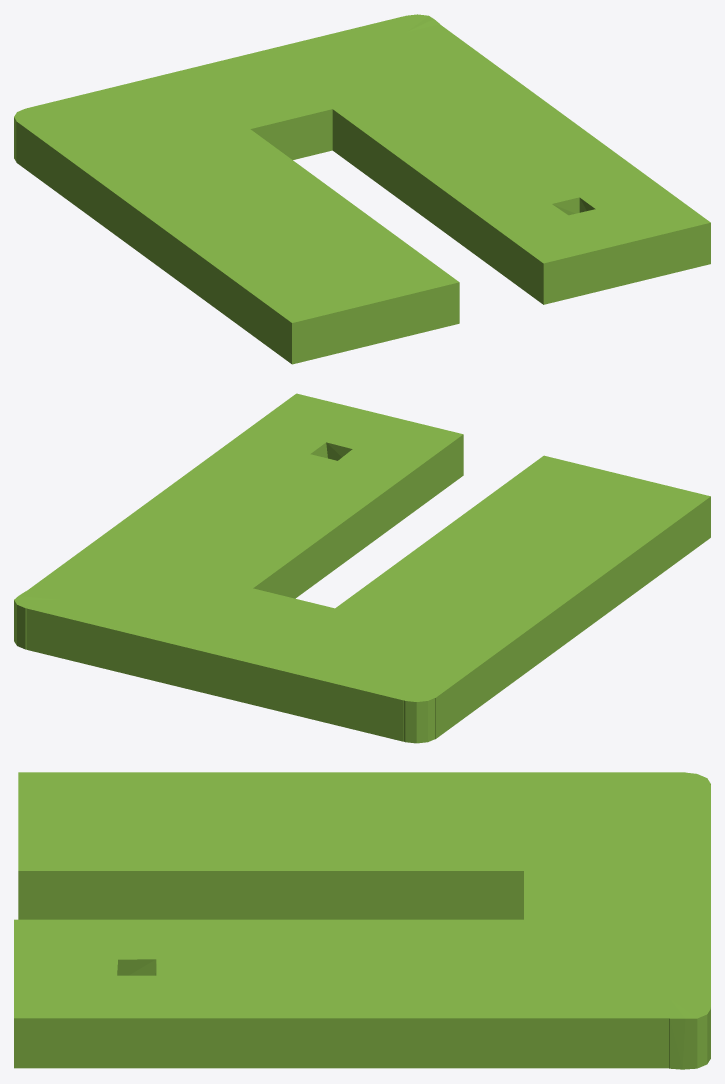
File: model-triangulated.obj
3 views of the same model, one above another, from view 1: azimuth 30°, elevation 25°; view 2: azimuth 150°, elevation 25°; view 3: azimuth 270°, elevation 25° (orthographic). The views are drawn at different scales.
Visible parts, largest first — view 1: group1414712935, group1857708213, group684364895, group308545719, group2005251453; view 2: group1414712935, group1857708213, group684364895, group308545719, group881132206, group2005251453; view 3: group1857708213, group1414712935, group684364895, group308545719, group2005251453.
Boxes of the visible parts, x1,y1,x2,y2 form: group1414712935: [16, 80, 459, 364]; group1857708213: [268, 24, 710, 304]; group684364895: [27, 57, 314, 158]; group308545719: [237, 16, 404, 159]; group2005251453: [394, 14, 439, 33]; group1414712935: [269, 455, 710, 739]; group1857708213: [26, 393, 463, 635]; group684364895: [194, 593, 480, 741]; group308545719: [27, 588, 270, 700]; group881132206: [404, 693, 434, 743]; group2005251453: [14, 590, 59, 649]; group1857708213: [14, 919, 681, 1068]; group1414712935: [18, 772, 685, 919]; group684364895: [524, 785, 710, 908]; group308545719: [524, 909, 710, 1007]; group2005251453: [656, 997, 710, 1069].
Bounding box in the file's own units: 1.37 × 0.1326 × 1.64.
